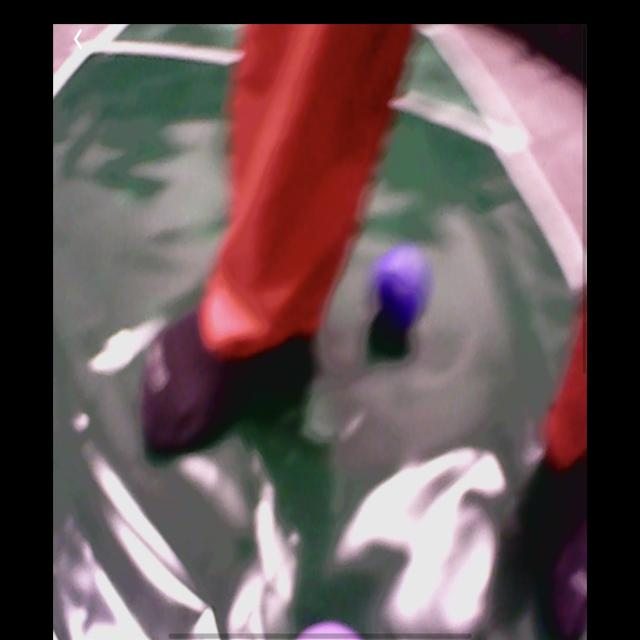ball: (372, 242, 430, 330), (297, 619, 364, 640)
